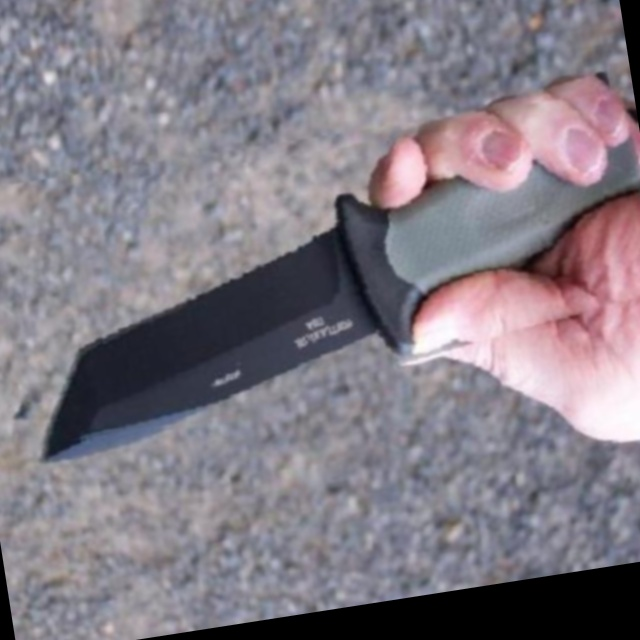Sharp-Object: (0, 88, 640, 455)
